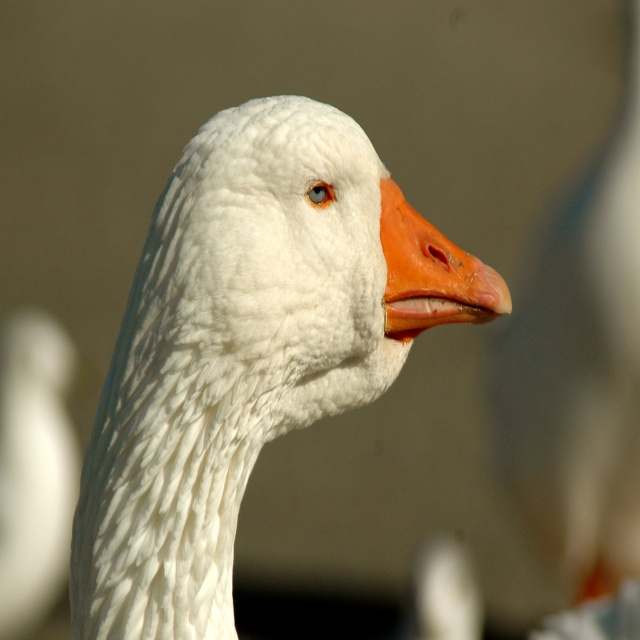Goose: (55, 91, 510, 640)
